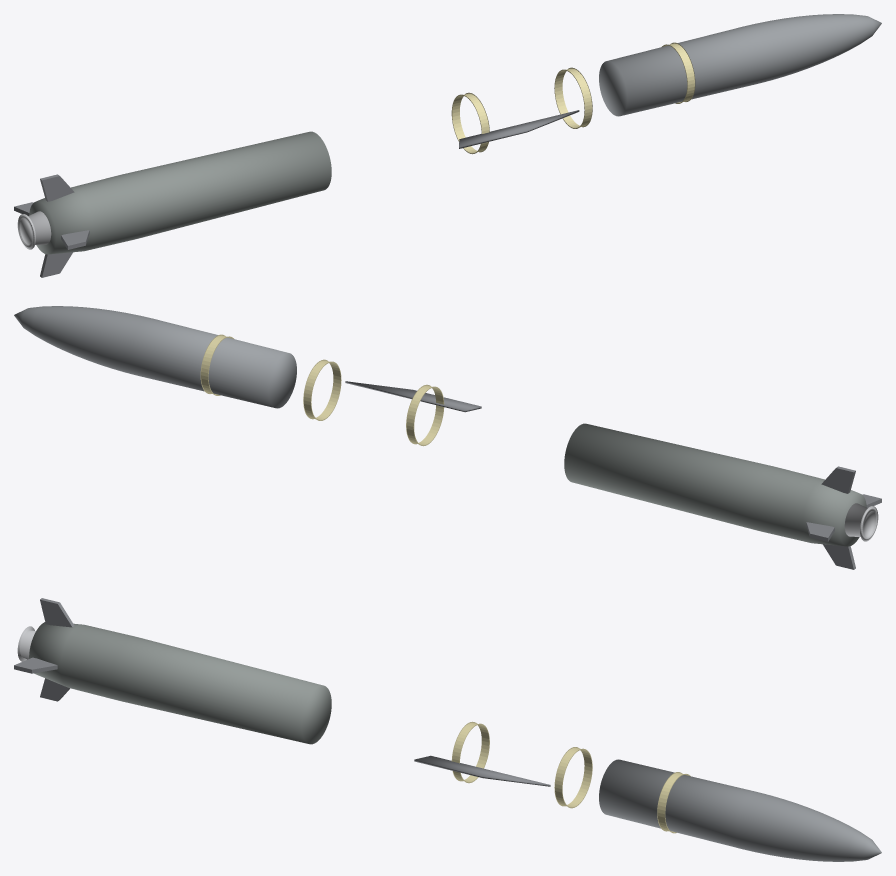
File: RU_ASW_Veter_LOD0.fbx
3 renders of one model, top to bottom at view 1: azimuth 30°, elevation 25°; view 2: azimuth 150°, elevation 25°; view 3: azimuth 330°, elevation 25°, orthographic.
Parts seen in each view (by area): view 1: WPN_RU_ASW_Veter_LOD0_Tail, WPN_RU_ASW_Veter_LOD0_Body, WPN_RU_ASW_Veter_LOD0_Marking, WPN_RU_ASW_Veter_LOD0_Fins, WPN_RU_ASW_Veter_LOD0_Detail, WPN_RU_ASW_Veter_LOD0_Propulsor; view 2: WPN_RU_ASW_Veter_LOD0_Tail, WPN_RU_ASW_Veter_LOD0_Body, WPN_RU_ASW_Veter_LOD0_Marking, WPN_RU_ASW_Veter_LOD0_Fins, WPN_RU_ASW_Veter_LOD0_Propulsor, WPN_RU_ASW_Veter_LOD0_Detail; view 3: WPN_RU_ASW_Veter_LOD0_Tail, WPN_RU_ASW_Veter_LOD0_Body, WPN_RU_ASW_Veter_LOD0_Marking, WPN_RU_ASW_Veter_LOD0_Fins, WPN_RU_ASW_Veter_LOD0_Detail.
Part boxes in pixels (x1,y1,x2,y2): WPN_RU_ASW_Veter_LOD0_Tail: [29, 131, 331, 254]; WPN_RU_ASW_Veter_LOD0_Body: [599, 14, 881, 116]; WPN_RU_ASW_Veter_LOD0_Marking: [451, 42, 695, 154]; WPN_RU_ASW_Veter_LOD0_Fins: [14, 174, 89, 277]; WPN_RU_ASW_Veter_LOD0_Detail: [459, 110, 579, 148]; WPN_RU_ASW_Veter_LOD0_Propulsor: [17, 211, 51, 249]; WPN_RU_ASW_Veter_LOD0_Tail: [564, 423, 866, 546]; WPN_RU_ASW_Veter_LOD0_Body: [14, 306, 296, 408]; WPN_RU_ASW_Veter_LOD0_Marking: [200, 334, 444, 446]; WPN_RU_ASW_Veter_LOD0_Fins: [806, 466, 881, 569]; WPN_RU_ASW_Veter_LOD0_Propulsor: [844, 503, 878, 541]; WPN_RU_ASW_Veter_LOD0_Detail: [345, 381, 481, 412]; WPN_RU_ASW_Veter_LOD0_Tail: [29, 622, 331, 744]; WPN_RU_ASW_Veter_LOD0_Body: [599, 759, 881, 861]; WPN_RU_ASW_Veter_LOD0_Marking: [451, 721, 690, 833]; WPN_RU_ASW_Veter_LOD0_Fins: [14, 598, 74, 701]; WPN_RU_ASW_Veter_LOD0_Detail: [414, 755, 550, 786].
Bounding box in the file's own units: 8.9 × 0.9695 × 0.9695.
